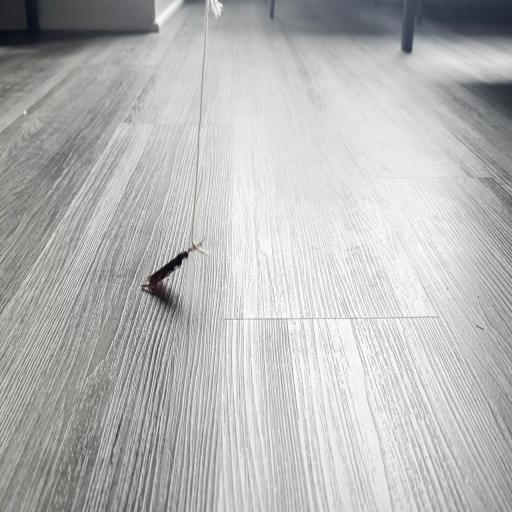cockroach: (142, 244, 190, 296)
